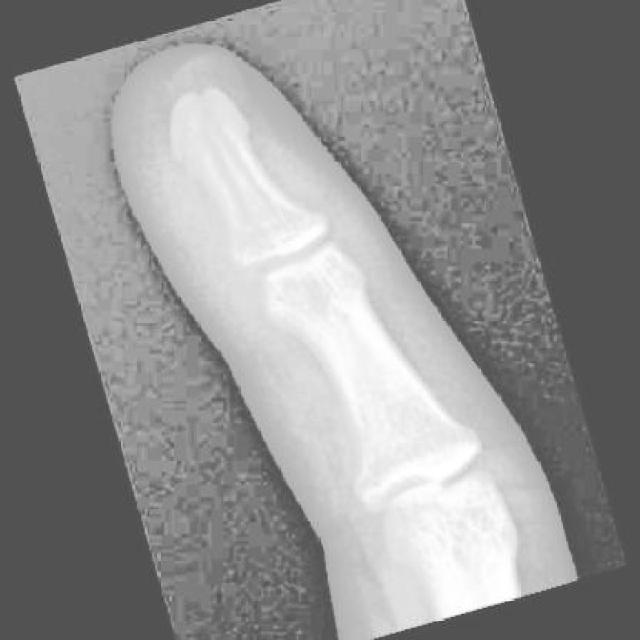Fracture: (145, 56, 324, 279)
